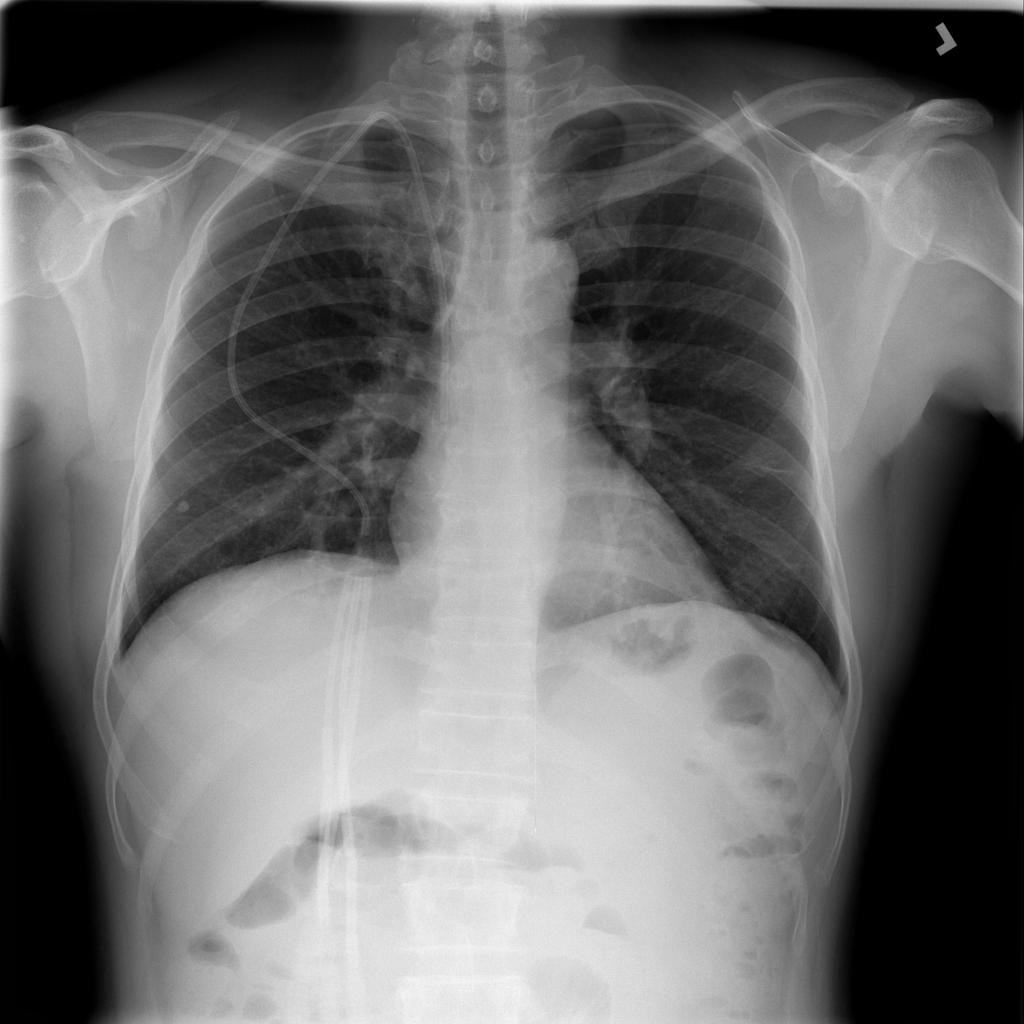nodule: (163, 489, 202, 525)
